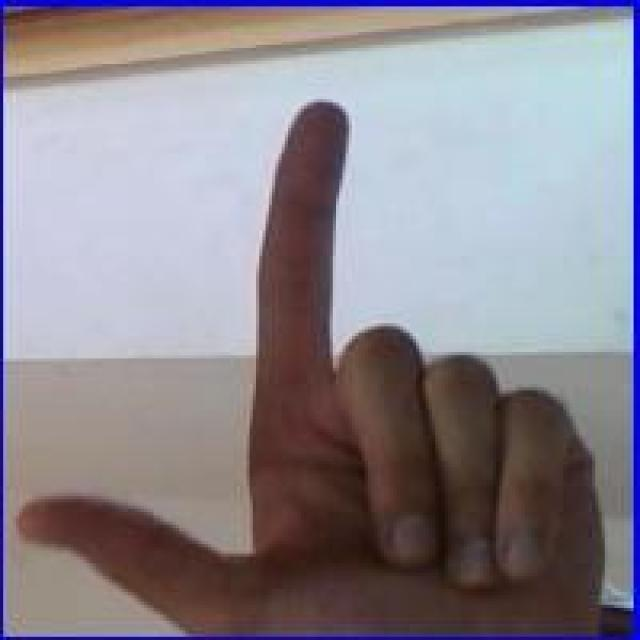L: (16, 100, 614, 630)
